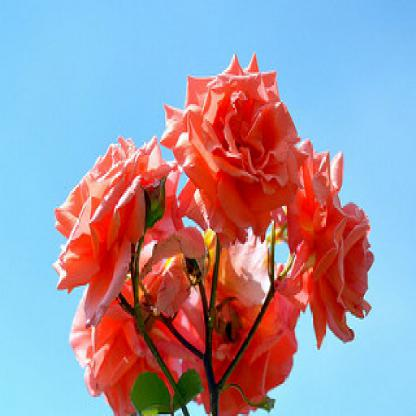Rose-Mawar: (34, 28, 381, 412)
